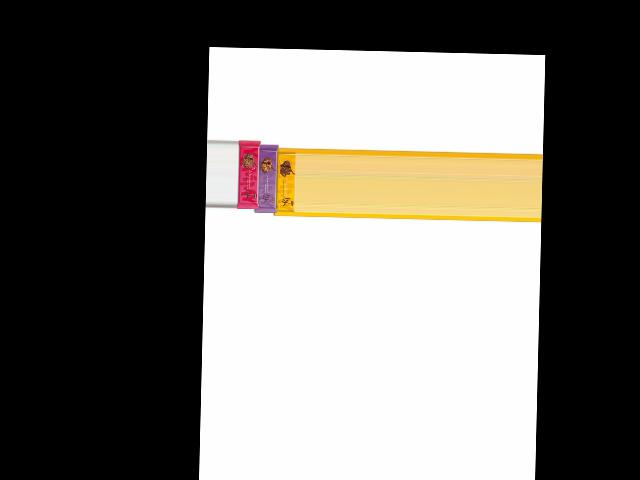chocolate: (236, 135, 260, 212)
